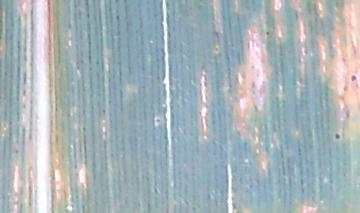tarspot: (333, 131, 344, 143), (349, 72, 358, 83), (154, 116, 162, 124), (264, 30, 272, 37), (213, 47, 220, 55)
